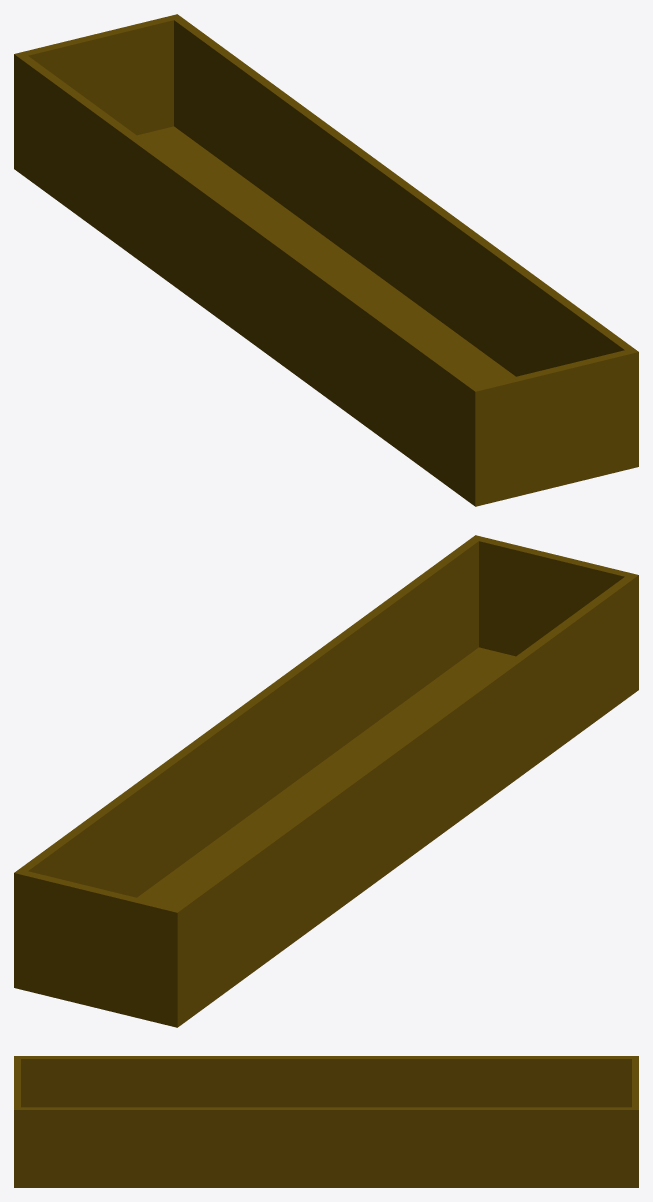
Rendered from slide-box.glb.
3 renders of one model, top to bottom at view 1: azimuth 30°, elevation 25°; view 2: azimuth 150°, elevation 25°; view 3: azimuth 270°, elevation 25°, orthographic. The views are drawn at different scales.
Parts seen in each view (by area): view 1: Cube; view 2: Cube; view 3: Cube.
Part boxes in pixels (x1,y1,x2,y2): Cube: (14, 14, 638, 506); Cube: (14, 535, 638, 1027); Cube: (14, 1056, 638, 1187).
Size of the model in its own units: 2.98 by 2 by 14.55.
